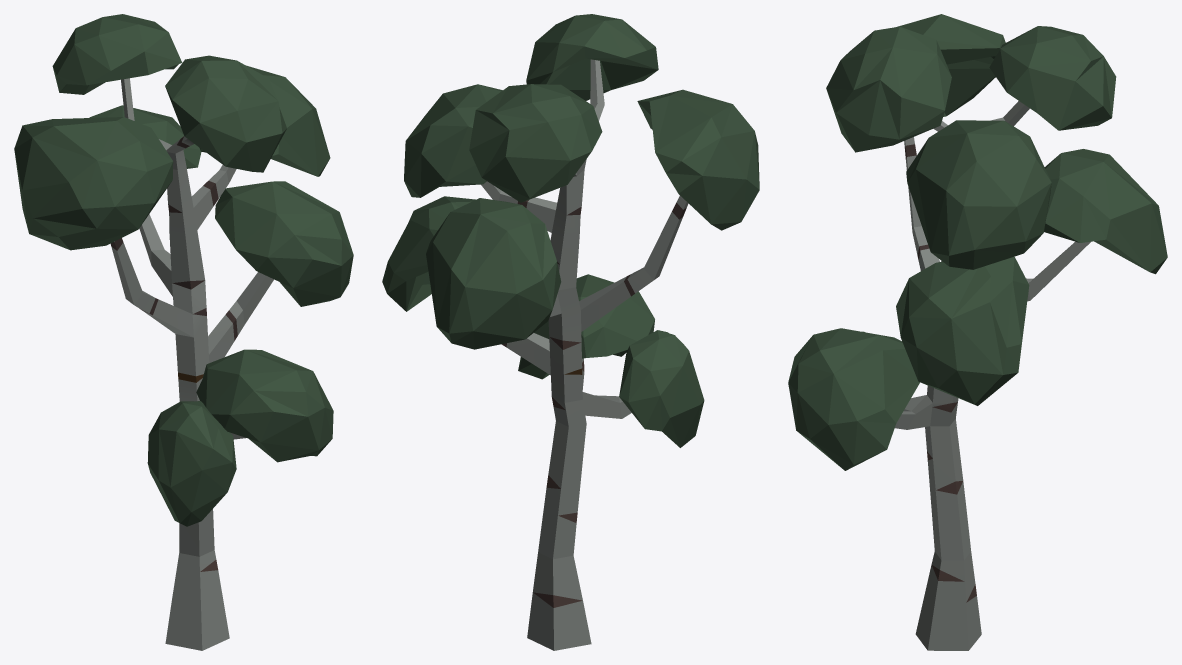
Rendered from SM_Env_TreeBirch_02.gltf.
The picture shows the model from 3 angles, left to right: view 1: azimuth 30°, elevation 25°; view 2: azimuth 150°, elevation 25°; view 3: azimuth 270°, elevation 25°; orthographic projection.
Parts seen in each view (by area): view 1: SM_Env_TreeBirch_02; view 2: SM_Env_TreeBirch_02; view 3: SM_Env_TreeBirch_02.
Boxes of the visible parts, x1,y1,x2,y2 form: SM_Env_TreeBirch_02: (14, 14, 353, 650); SM_Env_TreeBirch_02: (382, 14, 759, 650); SM_Env_TreeBirch_02: (788, 14, 1167, 650).
Bounding box in the file's own units: 3.88 × 6.58 × 3.75.
Materials: 1 (1 with a texture image).
